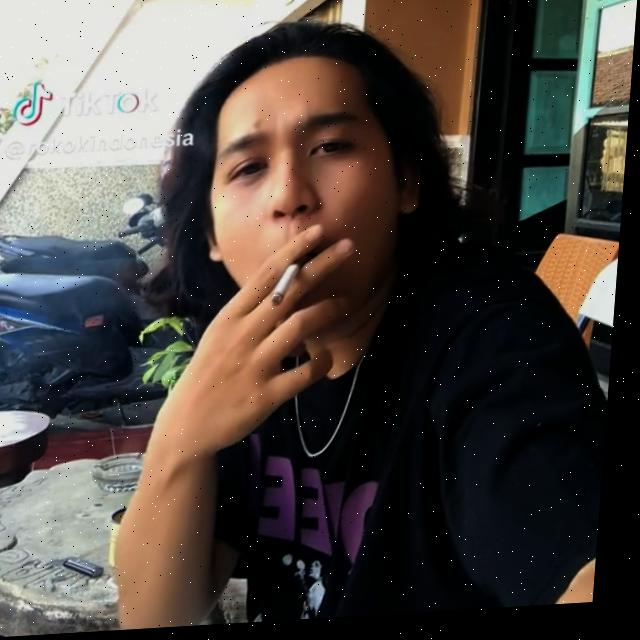cigarette: (275, 268, 304, 311)
